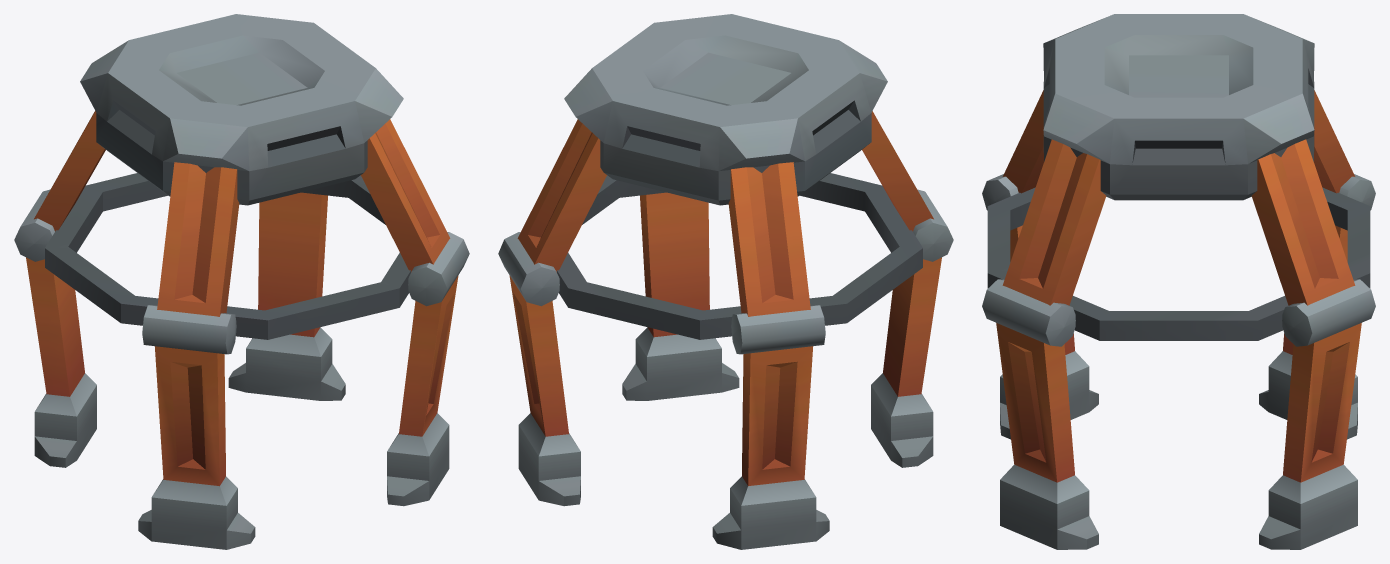
File: kay-torre-antena.gltf
3 views of the same model, side by side, from view 1: azimuth 30°, elevation 25°; view 2: azimuth 150°, elevation 25°; view 3: azimuth 270°, elevation 25° (orthographic). The views are drawn at different scales.
Parts seen in each view (by area): view 1: structure_tall; view 2: structure_tall; view 3: structure_tall.
Part boxes in pixels (x1,y1,x2,y2): structure_tall: [14, 14, 469, 549]; structure_tall: [498, 14, 953, 549]; structure_tall: [982, 14, 1375, 549].
Bounding box in the file's own units: 4.55 × 5.2 × 4.55.
1 material, 1 textured.
